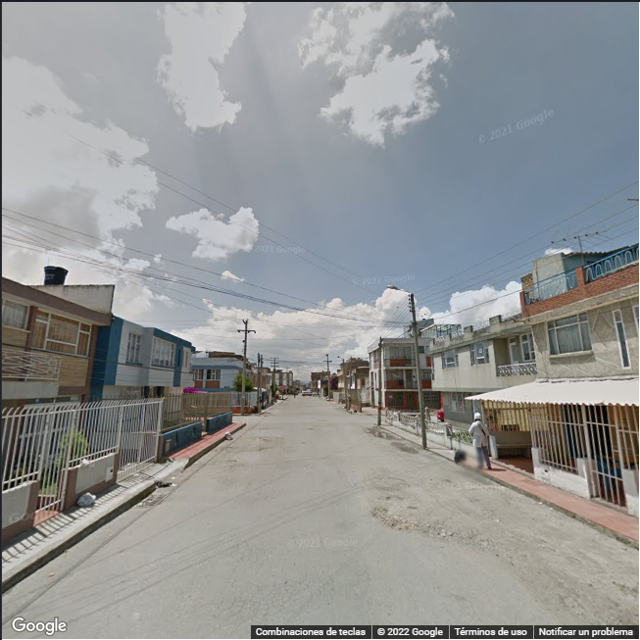D00: (342, 521, 374, 582), (227, 542, 249, 581)
D20: (220, 584, 304, 627)
